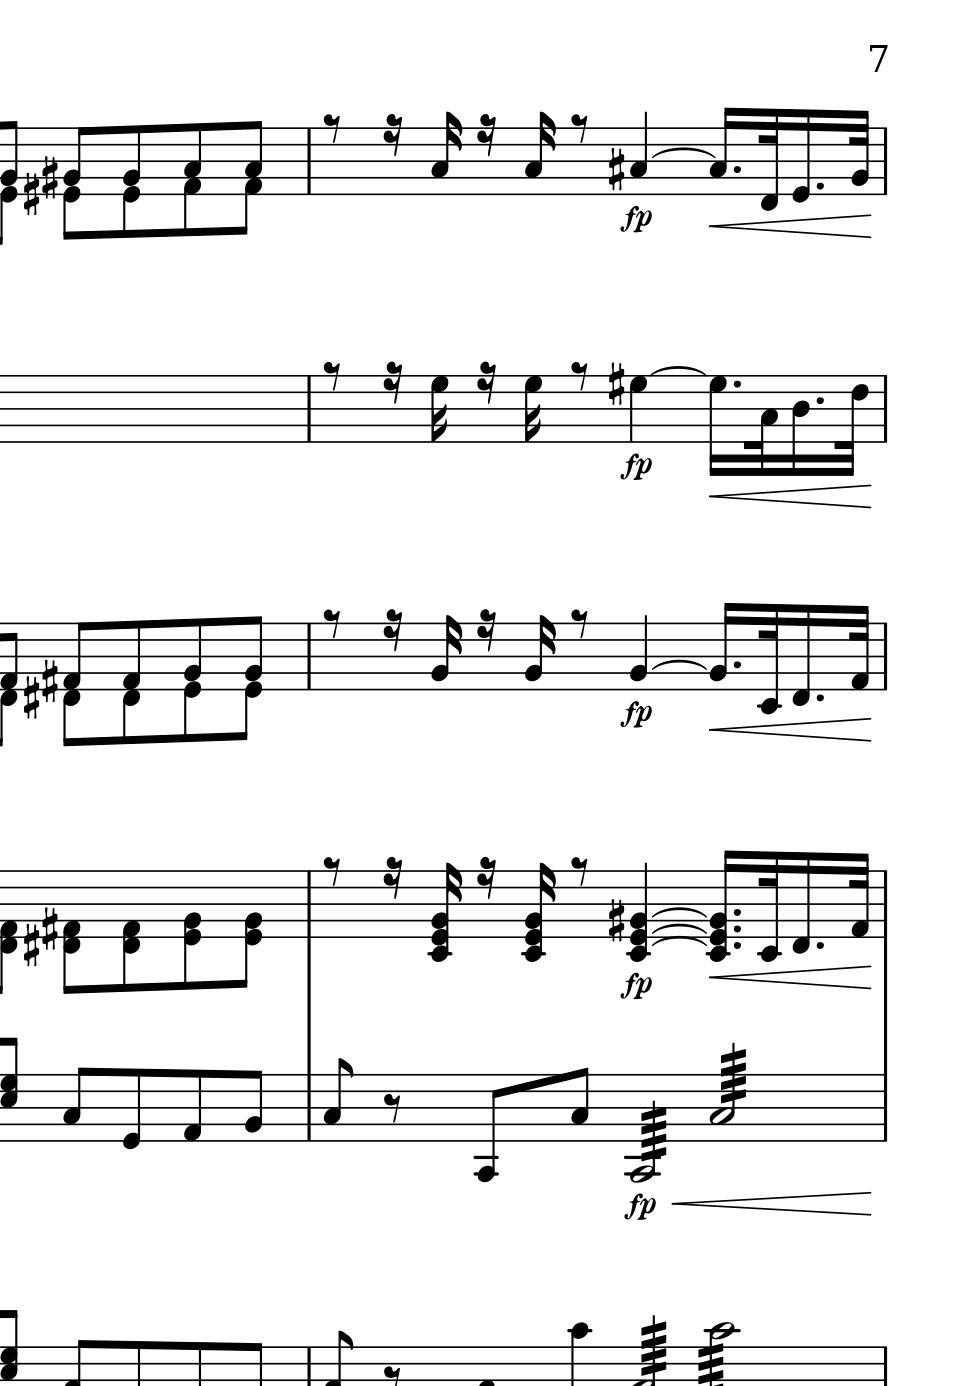16_-1: (757, 105, 780, 211), (790, 602, 812, 708), (789, 849, 811, 955)
16_0: (790, 107, 811, 204)
16_2: (706, 600, 736, 692), (523, 613, 555, 691), (430, 614, 461, 691)
16_3: (524, 110, 555, 196), (430, 112, 460, 195), (707, 104, 735, 195)
16_4: (789, 372, 811, 480)
16_7: (706, 372, 728, 479), (521, 373, 543, 445), (428, 372, 449, 445)
16_th: (521, 861, 560, 966), (427, 860, 461, 967)
32_-2: (755, 600, 780, 716), (756, 848, 780, 963)
32_1: (846, 850, 871, 941), (846, 603, 871, 692)
32_2: (848, 108, 871, 196)
32_3: (743, 372, 778, 478)
32_6: (835, 372, 870, 478)
4_2: (627, 613, 650, 692)
4_3: (628, 110, 651, 195)
4_7: (627, 373, 651, 444)
4_th: (625, 861, 650, 966)
7: (868, 40, 888, 74)
8_-1_1: (62, 620, 88, 747), (121, 869, 143, 992), (62, 869, 83, 996), (121, 620, 142, 745)
8_-4: (474, 1071, 502, 1183)
8_0: (119, 1066, 143, 1152)
8_0_2: (237, 869, 265, 989), (238, 615, 264, 743), (62, 125, 85, 242), (121, 124, 143, 240), (182, 618, 203, 743), (182, 869, 202, 992)
8_1: (178, 1067, 204, 1144)
8_1_3: (237, 121, 265, 238), (182, 122, 203, 239)
8_2: (242, 1068, 265, 1144)
8_3: (321, 1057, 353, 1144), (62, 1065, 89, 1144), (568, 1065, 590, 1144)
Crescendo_hairpin: (708, 483, 872, 513), (708, 716, 872, 745), (710, 964, 872, 993), (708, 213, 872, 236)
Rests16: (382, 361, 405, 408), (381, 856, 404, 903), (475, 855, 498, 902), (381, 115, 405, 160), (382, 609, 405, 655), (475, 609, 498, 654), (476, 112, 498, 158), (475, 361, 497, 406)
Rests8: (568, 110, 592, 145), (568, 853, 591, 889), (381, 1091, 404, 1125), (568, 607, 591, 642), (321, 109, 343, 144), (321, 357, 343, 392), (568, 358, 590, 393), (321, 606, 342, 639), (321, 853, 342, 887)
Sharp: (605, 896, 627, 944), (605, 146, 626, 194), (603, 361, 625, 408), (40, 154, 59, 201), (40, 659, 58, 706), (40, 907, 58, 953), (22, 166, 38, 217), (22, 920, 38, 968), (22, 674, 38, 721)
Single_barline: (875, 1074, 893, 1141), (300, 1075, 318, 1140), (300, 622, 317, 689), (300, 128, 317, 194), (300, 872, 317, 937), (877, 127, 893, 197), (877, 622, 893, 692), (877, 871, 893, 940), (877, 375, 893, 443), (301, 376, 317, 441)
Slur: (673, 1190, 872, 1220), (652, 145, 716, 160), (648, 922, 708, 935), (647, 364, 706, 376), (649, 905, 708, 917), (652, 659, 708, 671), (652, 937, 710, 948)
Stem: (622, 1071, 668, 1186), (710, 1042, 751, 1142)
dot: (813, 177, 827, 192), (813, 690, 827, 704), (813, 938, 827, 952), (730, 378, 742, 391), (813, 394, 826, 408), (730, 657, 742, 671), (730, 906, 742, 919), (731, 938, 743, 951), (730, 924, 743, 935), (731, 163, 742, 176)
fp: (617, 204, 653, 236), (617, 452, 653, 484), (623, 1192, 657, 1223)
pp: (617, 700, 653, 731), (619, 972, 653, 1002)
